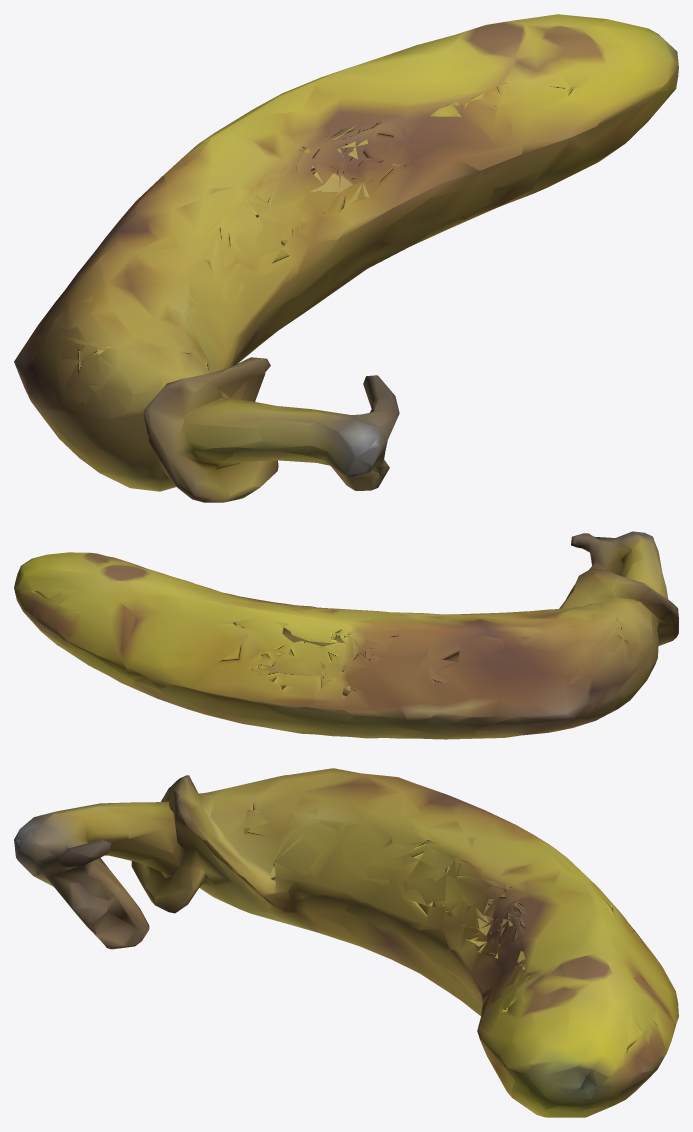
Rendered from 0006_mask_007_banana.glb.
3 views of the same model, one above another, from view 1: azimuth 30°, elevation 25°; view 2: azimuth 150°, elevation 25°; view 3: azimuth 270°, elevation 25° (orthographic). The views are drawn at different scales.
Visible parts, largest first — view 1: mask_007_object; view 2: mask_007_object; view 3: mask_007_object.
Boxes of the visible parts, x1,y1,x2,y2 form: mask_007_object: [14, 14, 678, 502]; mask_007_object: [14, 531, 678, 739]; mask_007_object: [14, 768, 678, 1117].
Bounding box in the file's own units: 0.2929 × 0.0736 × 0.2502.
